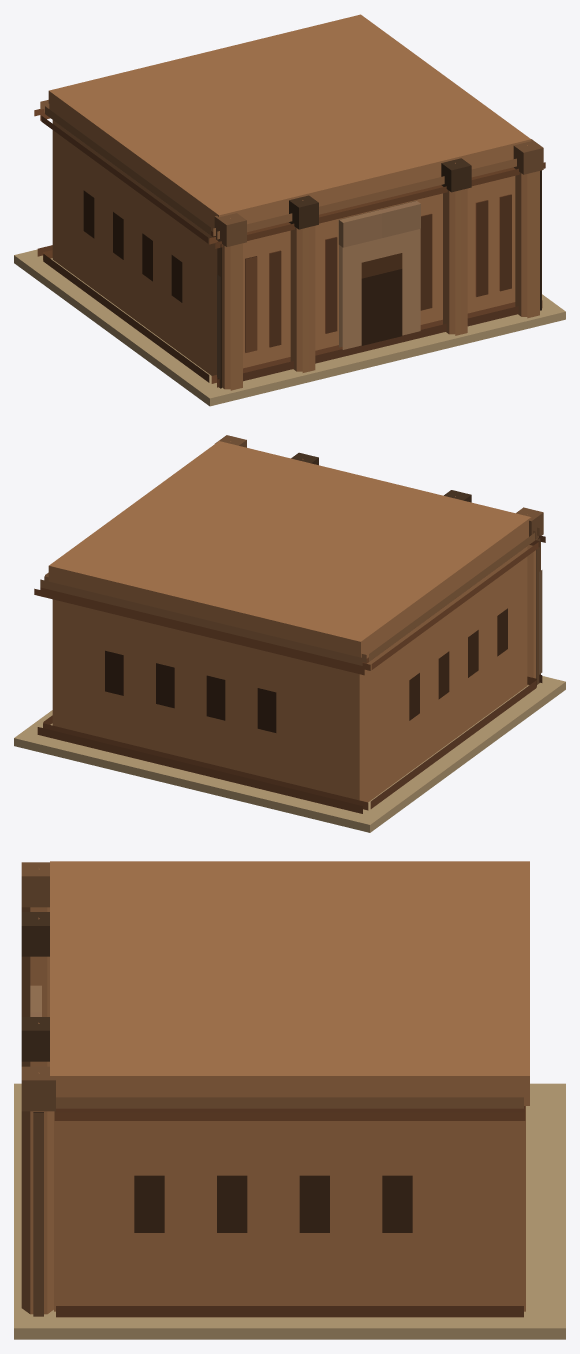
The model's file is CanteenCamelSil.fbx.
The picture shows the model from 3 angles, top to bottom: view 1: azimuth 30°, elevation 25°; view 2: azimuth 150°, elevation 25°; view 3: azimuth 270°, elevation 25°; orthographic projection. The views are drawn at different scales.
Visible parts, largest first — view 1: OA_S_All; view 2: OA_S_All; view 3: OA_S_All.
Part boxes in pixels (x1=…): OA_S_All: x1=14, y1=14, x2=565, y2=406; OA_S_All: x1=14, y1=435, x2=565, y2=832; OA_S_All: x1=14, y1=861, x2=565, y2=1339.
Size of the model in its own units: 42.04 by 19.9 by 40.04.
